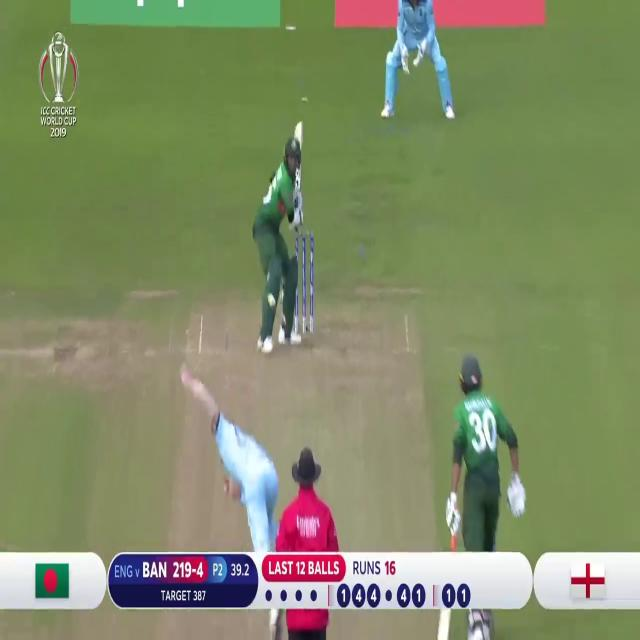ball: (266, 293, 278, 311)
